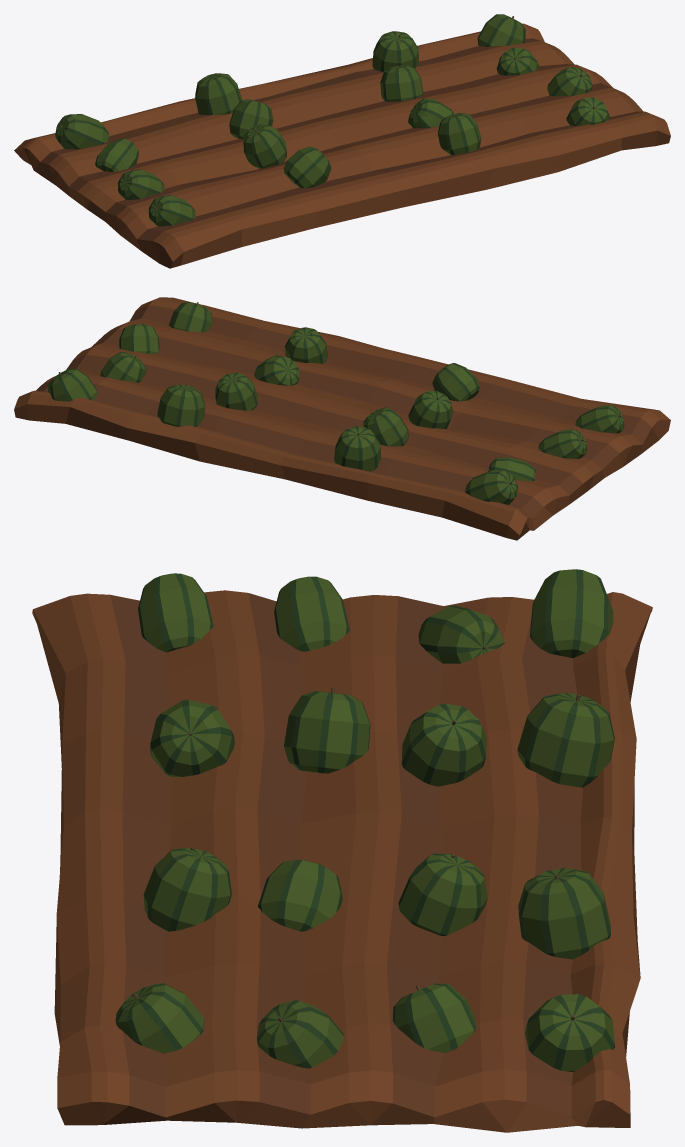
File: WaterMalonHarvest_1.fbx
The picture shows the model from 3 angles, top to bottom: view 1: azimuth 30°, elevation 25°; view 2: azimuth 150°, elevation 25°; view 3: azimuth 270°, elevation 25°; orthographic projection. The views are drawn at different scales.
Visible parts, largest first — view 1: WaterMalonHarvest_1; view 2: WaterMalonHarvest_1; view 3: WaterMalonHarvest_1.
Part boxes in pixels (x1,y1,x2,y2): WaterMalonHarvest_1: [14, 14, 670, 268]; WaterMalonHarvest_1: [14, 297, 670, 540]; WaterMalonHarvest_1: [32, 569, 652, 1132].
Bounding box in the file's own units: 622 × 66 × 325.
